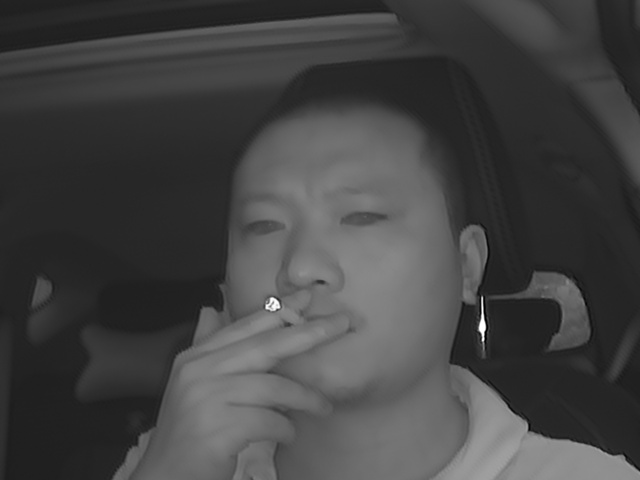hand: (193, 286, 341, 456)
